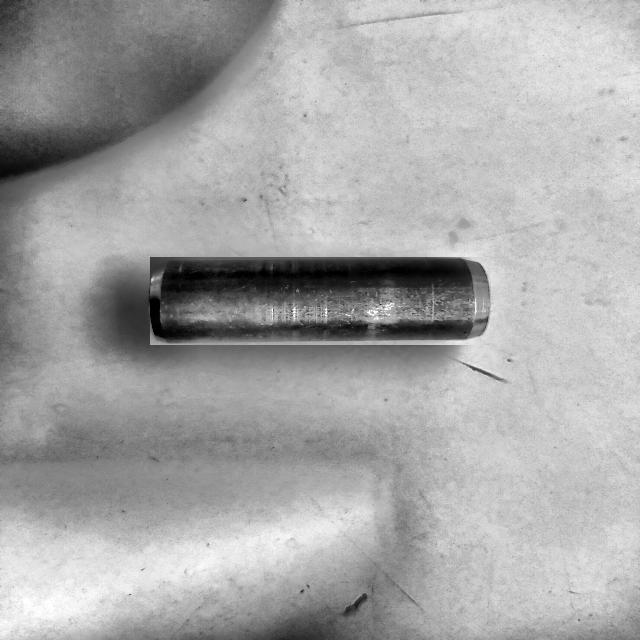Broken: (150, 257, 490, 345)
